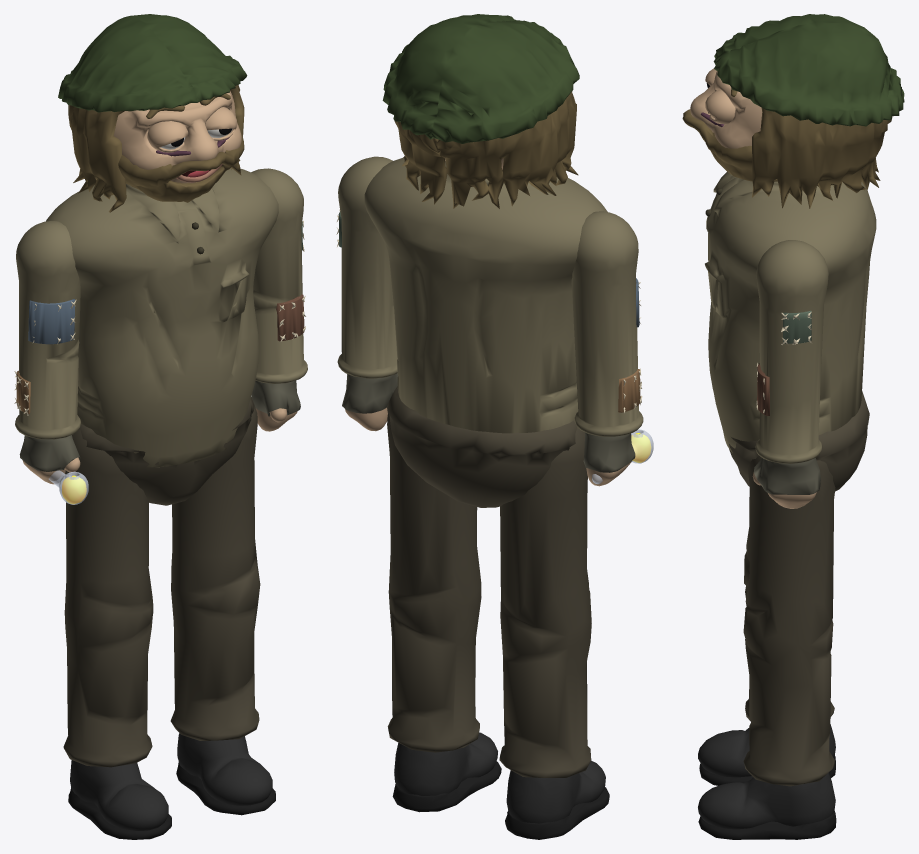
The model's file is gary.glb.
The picture shows the model from 3 angles, left to right: view 1: azimuth 30°, elevation 25°; view 2: azimuth 150°, elevation 25°; view 3: azimuth 270°, elevation 25°; orthographic projection. The views are drawn at different scales.
Parts seen in each view (by area): view 1: Body_Mesh, LegR_Mesh, LegL_Mesh, ArmR_Mesh, Beanie, Head_Mesh, ArmL_Mesh, Beard, Pipe, Ember; view 2: Body_Mesh, LegR_Mesh, LegL_Mesh, Beanie, ArmR_Mesh, ArmL_Mesh, Head_Mesh, Pipe; view 3: LegL_Mesh, Body_Mesh, ArmL_Mesh, Beanie, Head_Mesh, LegR_Mesh, Beard.
Part boxes in pixels (x1,y1,x2,y2): Body_Mesh: (46,167,278,505); LegR_Mesh: (63,429,171,839); LegL_Mesh: (170,397,275,815); ArmR_Mesh: (14,221,80,484); Beanie: (58,14,247,112); Head_Mesh: (68,85,244,212); ArmL_Mesh: (251,168,307,431); Beard: (118,131,244,202); Pipe: (49,470,88,504); Ember: (62,475,86,503); Body_Mesh: (364,158,607,507); LegR_Mesh: (499,427,609,839); LegL_Mesh: (387,413,501,812); Beanie: (382,14,579,143); ArmR_Mesh: (571,211,643,486); ArmL_Mesh: (336,156,397,431); Head_Mesh: (394,91,578,208); Pipe: (592,429,653,483); LegL_Mesh: (698,455,836,839); Body_Mesh: (705,172,876,491); ArmL_Mesh: (752,240,828,508); Beanie: (713,14,904,126); Head_Mesh: (690,68,892,208); LegR_Mesh: (698,487,835,785); Beard: (682,109,777,181).
Bounding box in the file's own units: 0.6944 × 1.77 × 0.4583.
